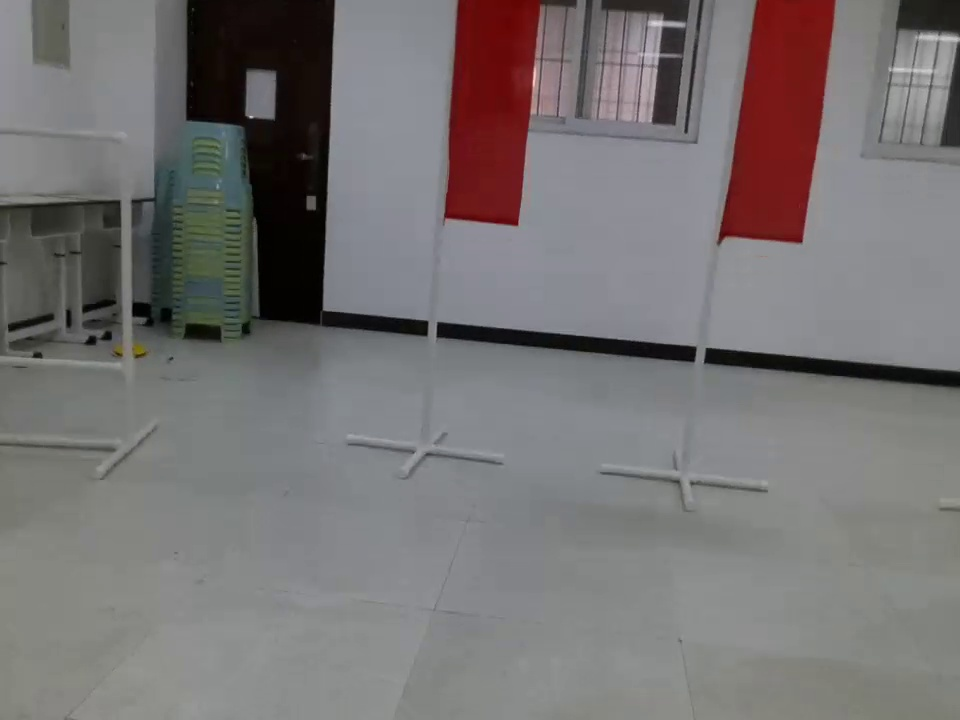qi: (711, 1, 842, 278), (447, 2, 541, 231)
